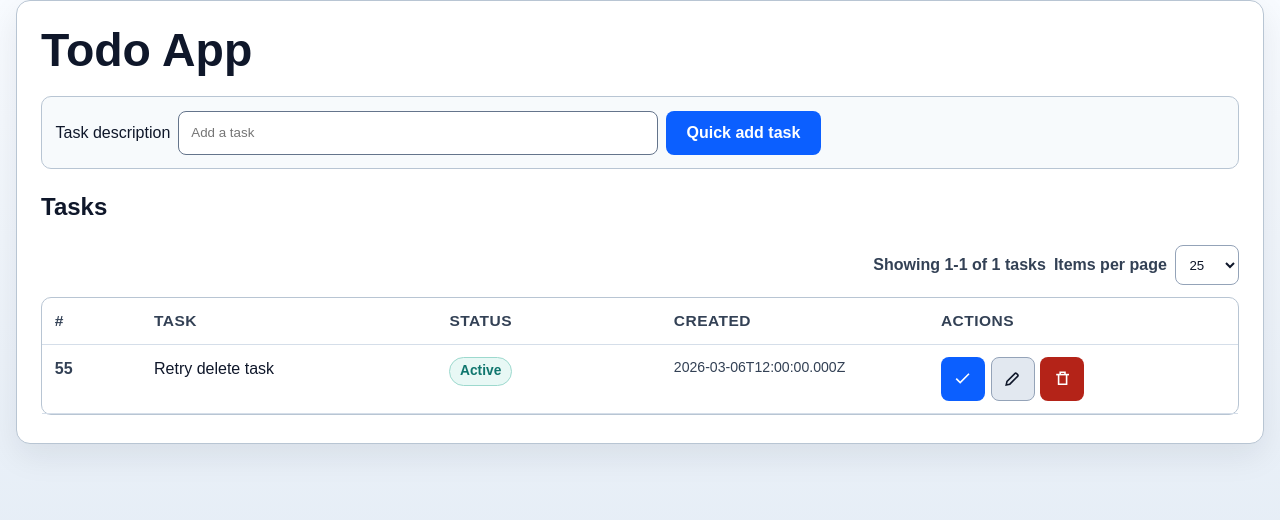
it: Task list and quick-add flows › shows delete retry affordance after failed confirm and removes task after retry succeeds
Expected: the text "Retry delete task" is shown, [154,360,274,377]
Step 1. Click the button named "Delete task \"Retry delete task\"" → (1062, 379), box [1040,357,1084,401]
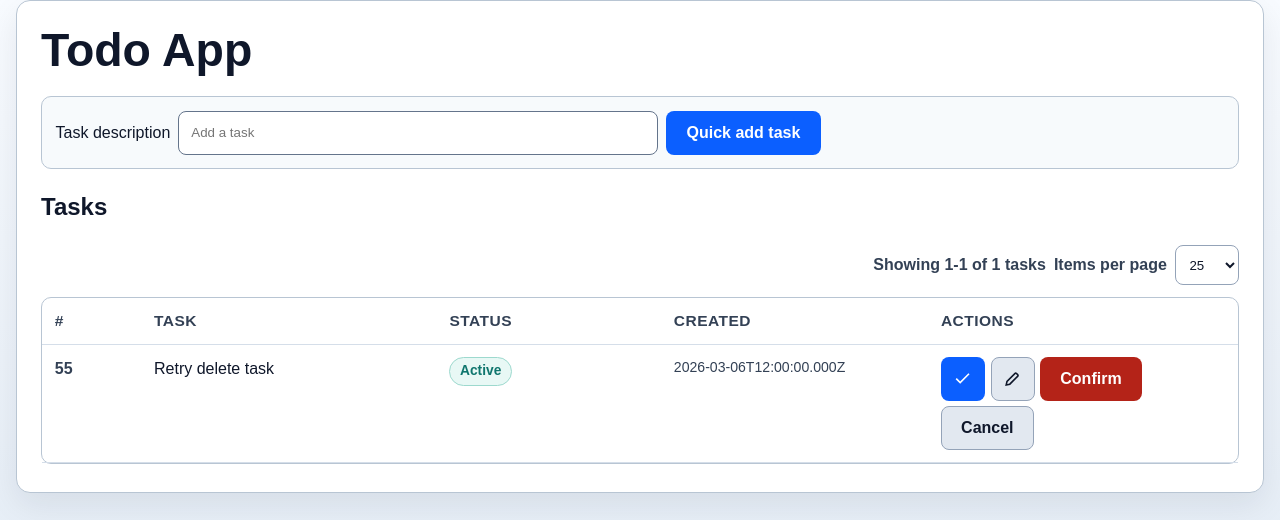
Step 2. Click the button named "Confirm delete task \"Retry delete task\"" → (1091, 379), box [1040,357,1142,401]
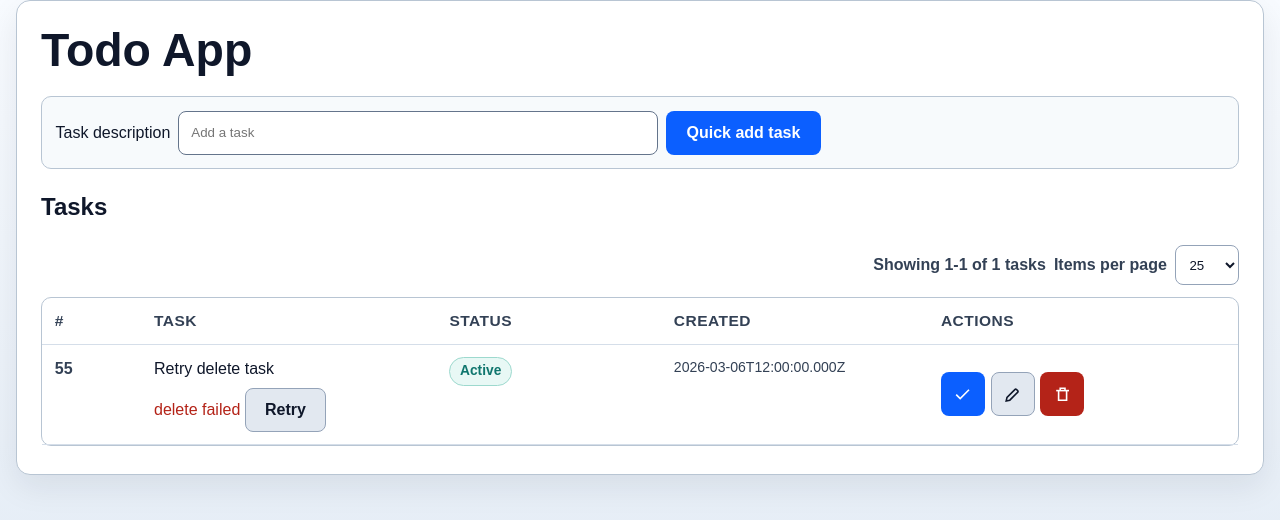
Expected: the text "Retry delete task" is shown, [154,360,274,377]
Expected: the button named "Retry delete task \"Retry delete task\"" is shown
Step 3. Click the button named "Retry delete task \"Retry delete task\"" → (285, 410), box [245,388,326,432]
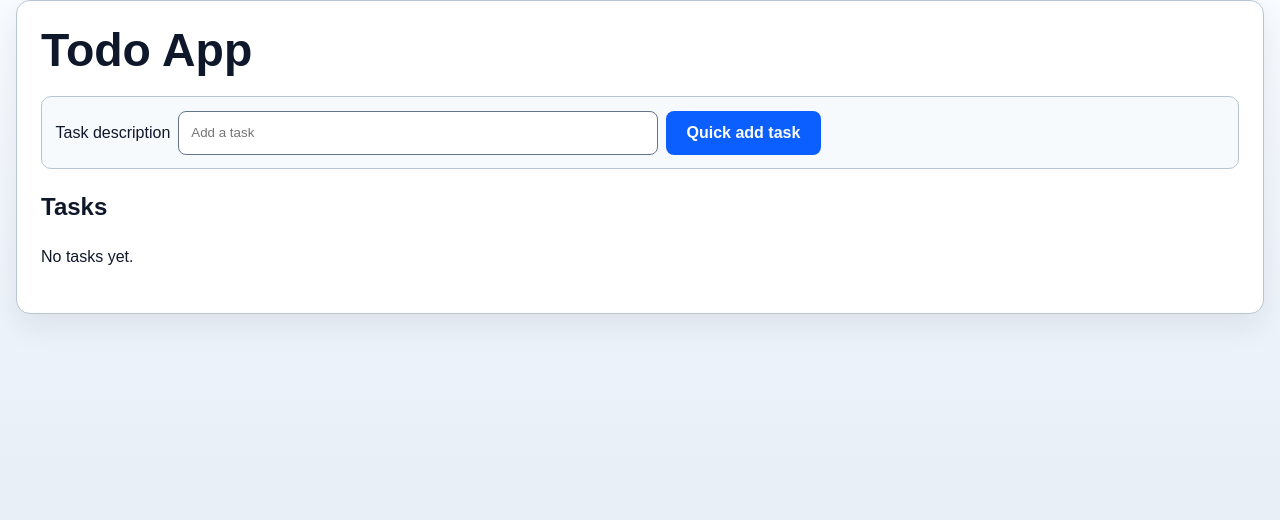
Expected: the text "Retry delete task" is gone
